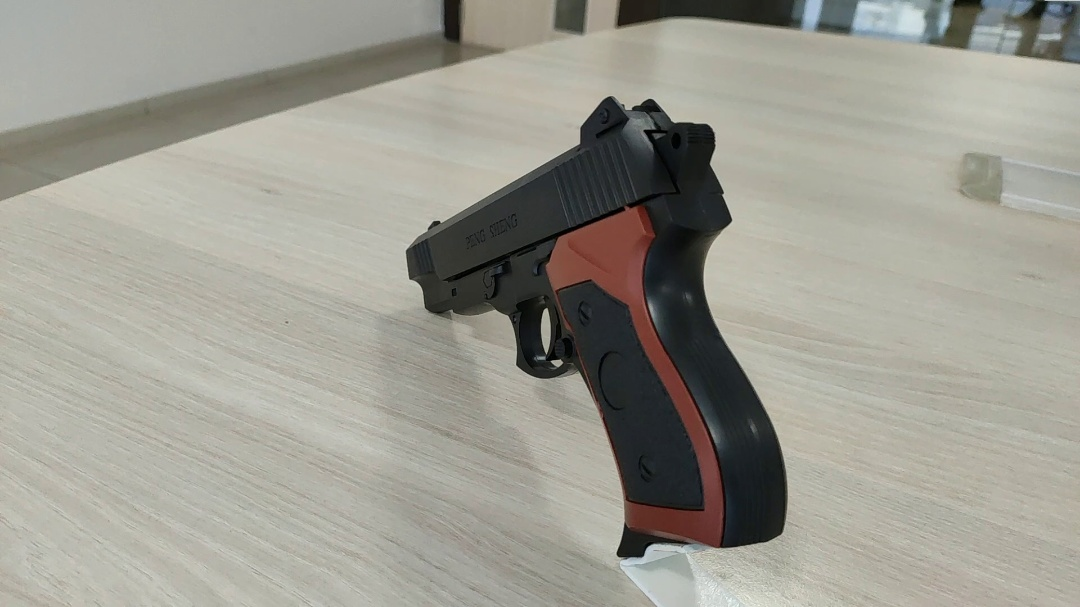gun: (571, 186, 653, 311)
